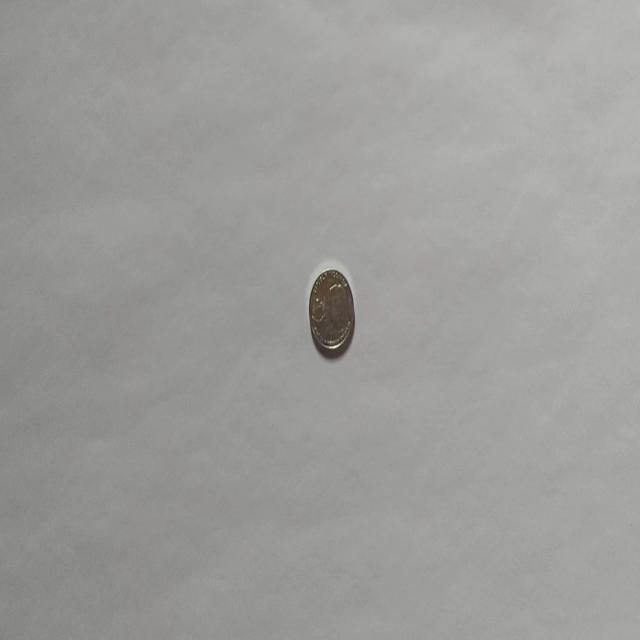seratus rupiah: (307, 266, 355, 354)
